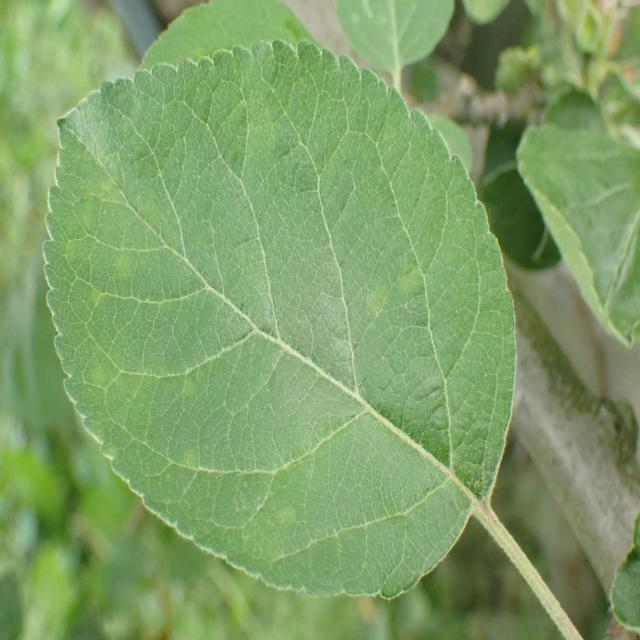scab: (49, 119, 457, 545)
